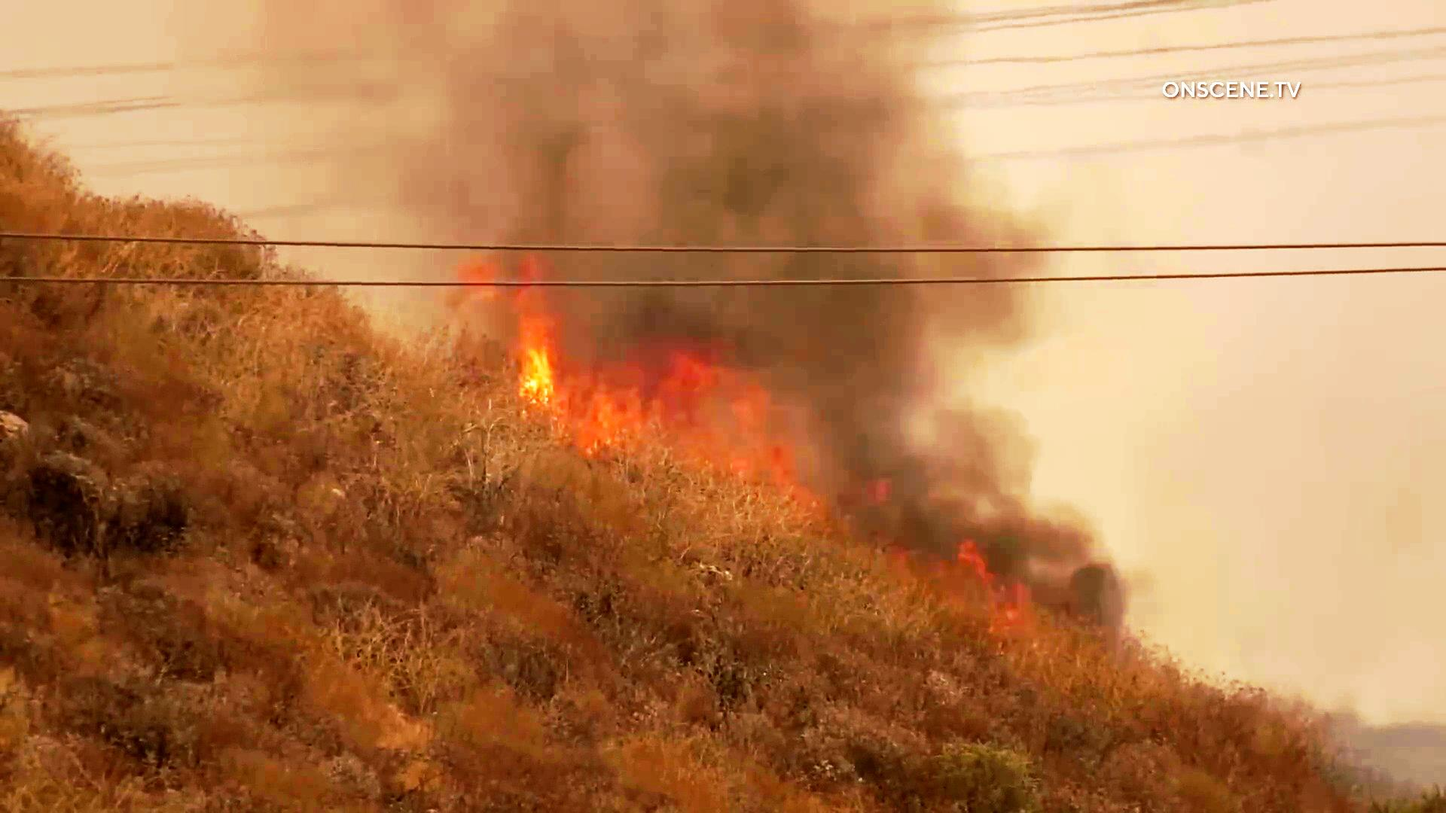fire: (648, 57, 938, 377), (469, 241, 578, 440), (551, 381, 667, 460)
